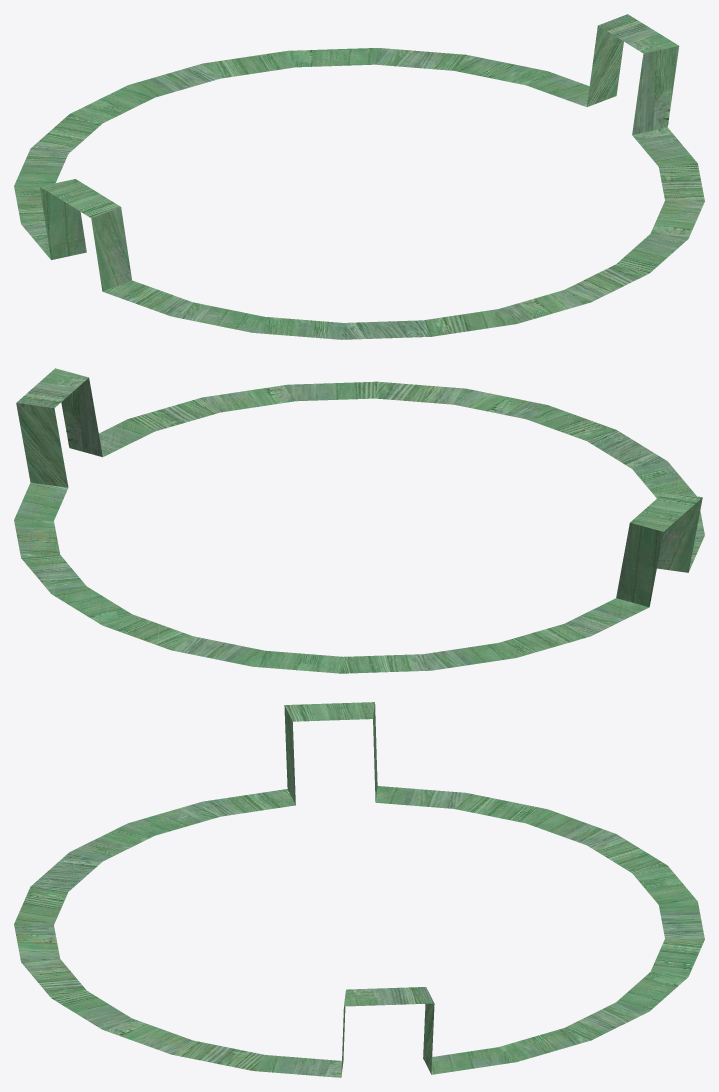
File: original-8.obj
The picture shows the model from 3 angles, top to bottom: view 1: azimuth 30°, elevation 25°; view 2: azimuth 150°, elevation 25°; view 3: azimuth 270°, elevation 25°; orthographic projection.
Parts seen in each view (by area): view 1: #ID67; view 2: #ID67; view 3: #ID67.
Part boxes in pixels (x1,y1,x2,y2): #ID67: (14,14,704,339); #ID67: (14,368,704,673); #ID67: (14,702,704,1077).
Size of the model in its own units: 1.31 by 0.1562 by 1.26.
